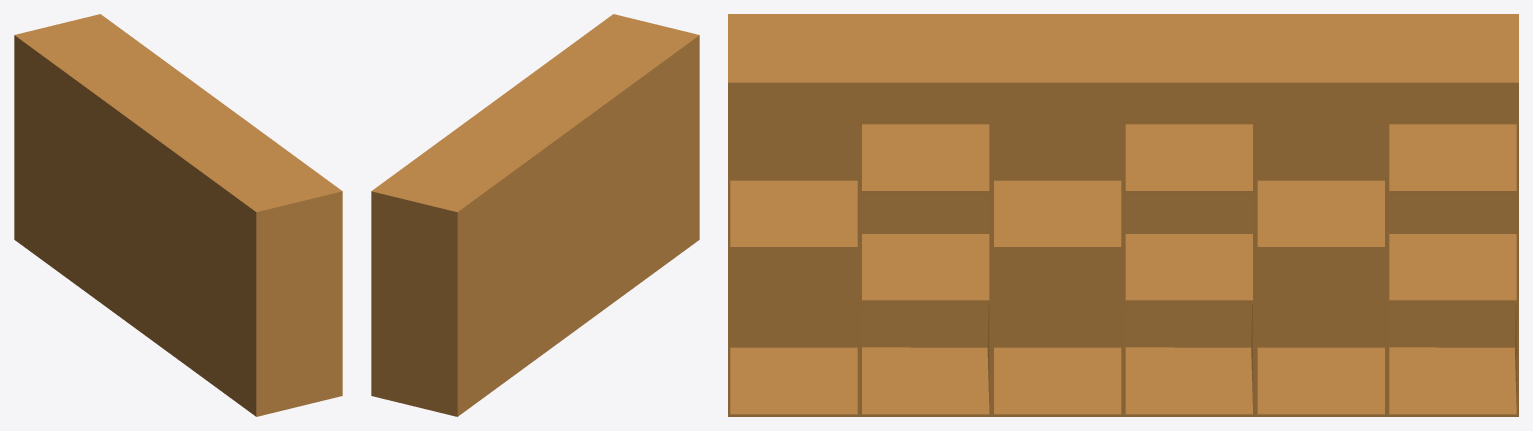
File: board2.fbx
The picture shows the model from 3 angles, left to right: view 1: azimuth 30°, elevation 25°; view 2: azimuth 150°, elevation 25°; view 3: azimuth 270°, elevation 25°; orthographic projection. The views are drawn at different scales.
Visible parts, largest first — view 1: Cube; view 2: Cube; view 3: Cube.
Part boxes in pixels (bbox=[...]): Cube: bbox=[14, 14, 342, 416]; Cube: bbox=[371, 14, 699, 416]; Cube: bbox=[728, 14, 1518, 416].
Bounding box in the file's own units: 196 × 444 × 953.
